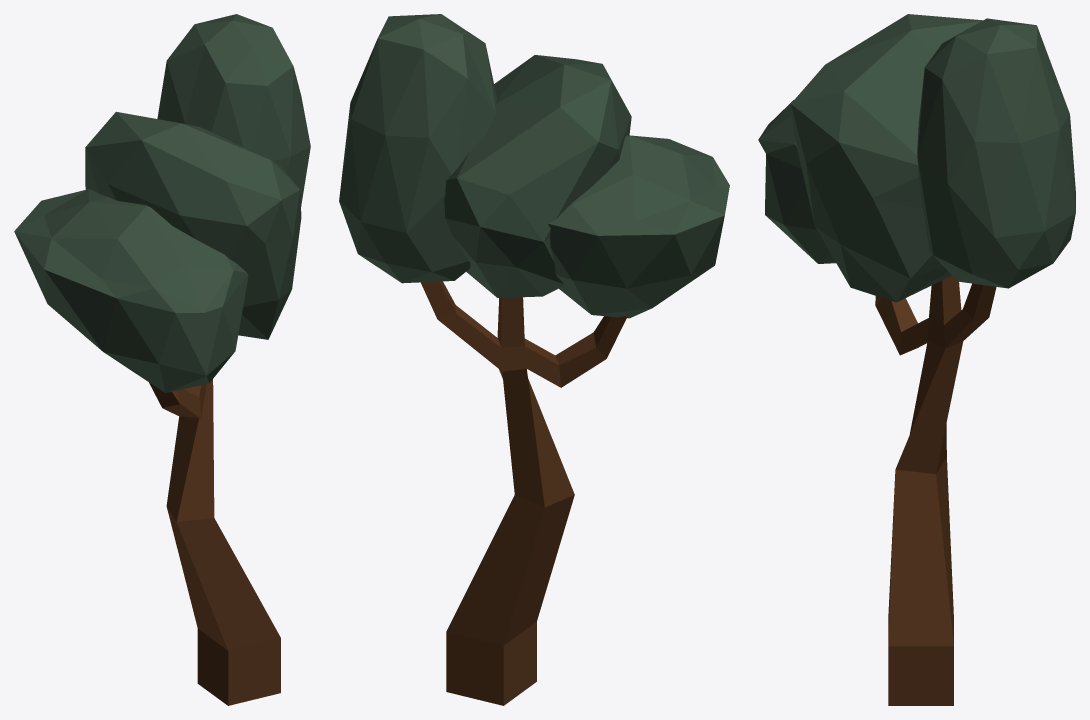
The model's file is GrasslandsTreeType5.fbx.
The picture shows the model from 3 angles, left to right: view 1: azimuth 30°, elevation 25°; view 2: azimuth 150°, elevation 25°; view 3: azimuth 270°, elevation 25°; orthographic projection. The views are drawn at different scales.
Visible parts, largest first — view 1: GrasslandsTreeType5; view 2: GrasslandsTreeType5; view 3: GrasslandsTreeType5.
Boxes of the visible parts, bbox=[...] form: GrasslandsTreeType5: bbox=[14, 14, 310, 705]; GrasslandsTreeType5: bbox=[339, 14, 729, 705]; GrasslandsTreeType5: bbox=[758, 14, 1075, 705].
Bounding box in the file's own units: 3.07 × 6.19 × 2.61.
